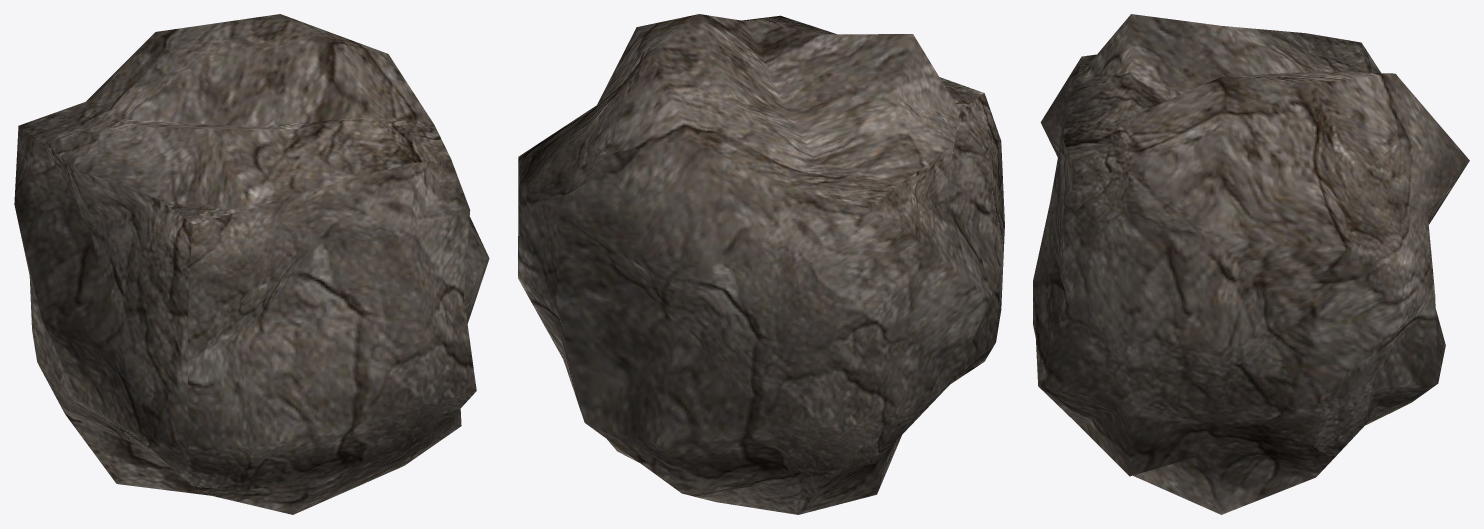
The model's file is rockDoor.dae.
The picture shows the model from 3 angles, left to right: view 1: azimuth 30°, elevation 25°; view 2: azimuth 150°, elevation 25°; view 3: azimuth 270°, elevation 25°; orthographic projection. The views are drawn at different scales.
Visible parts, largest first — view 1: Куб; view 2: Куб; view 3: Куб.
Part boxes in pixels (x1=…): Куб: x1=14, y1=14, x2=489, y2=514; Куб: x1=518, y1=14, x2=1004, y2=514; Куб: x1=1033, y1=14, x2=1469, y2=514.
Bounding box in the file's own units: 2.89 × 2.65 × 2.84.
1 material, 1 textured.
